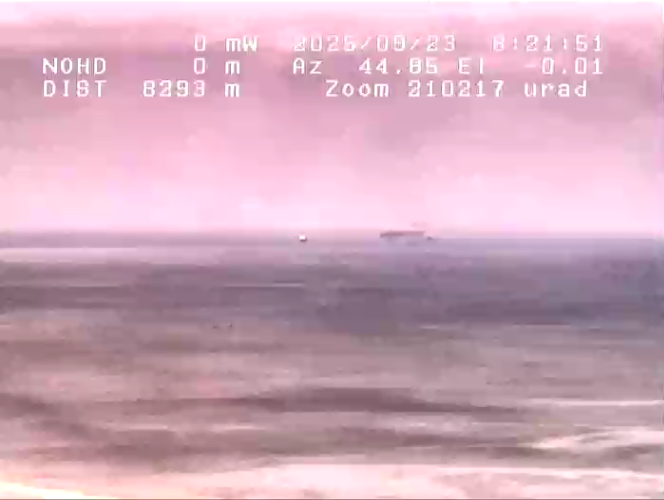TANKER: (368, 216, 433, 251), (292, 228, 314, 249)
